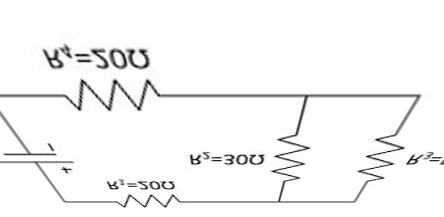resistor: (57, 71, 167, 117), (362, 120, 403, 193), (270, 129, 307, 187), (108, 190, 188, 211)
